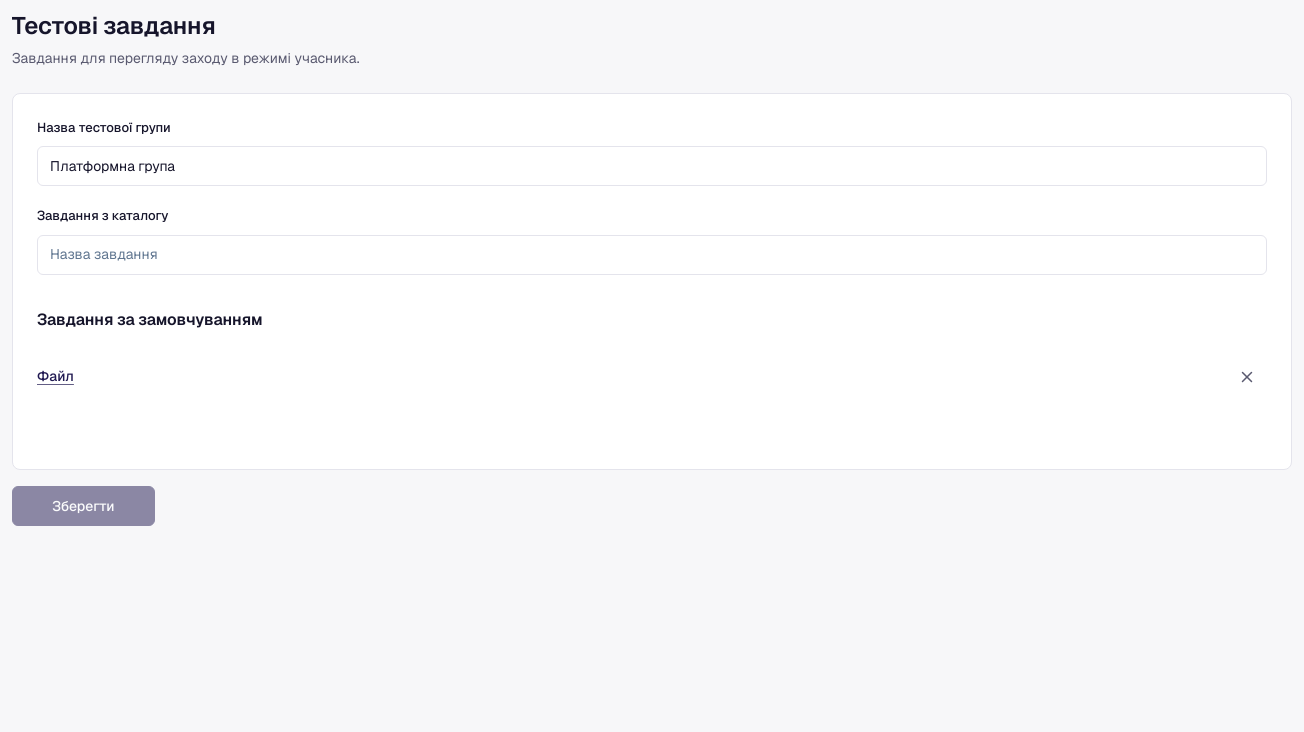
Test case: keeps newer edits when an earlier save finishes
The width and height of the screenshot is (1304, 732).
Replace the text in the field labelled "Назва тестової групи" with "Перша назва": [652, 166] box 37,146 -> 1267,186
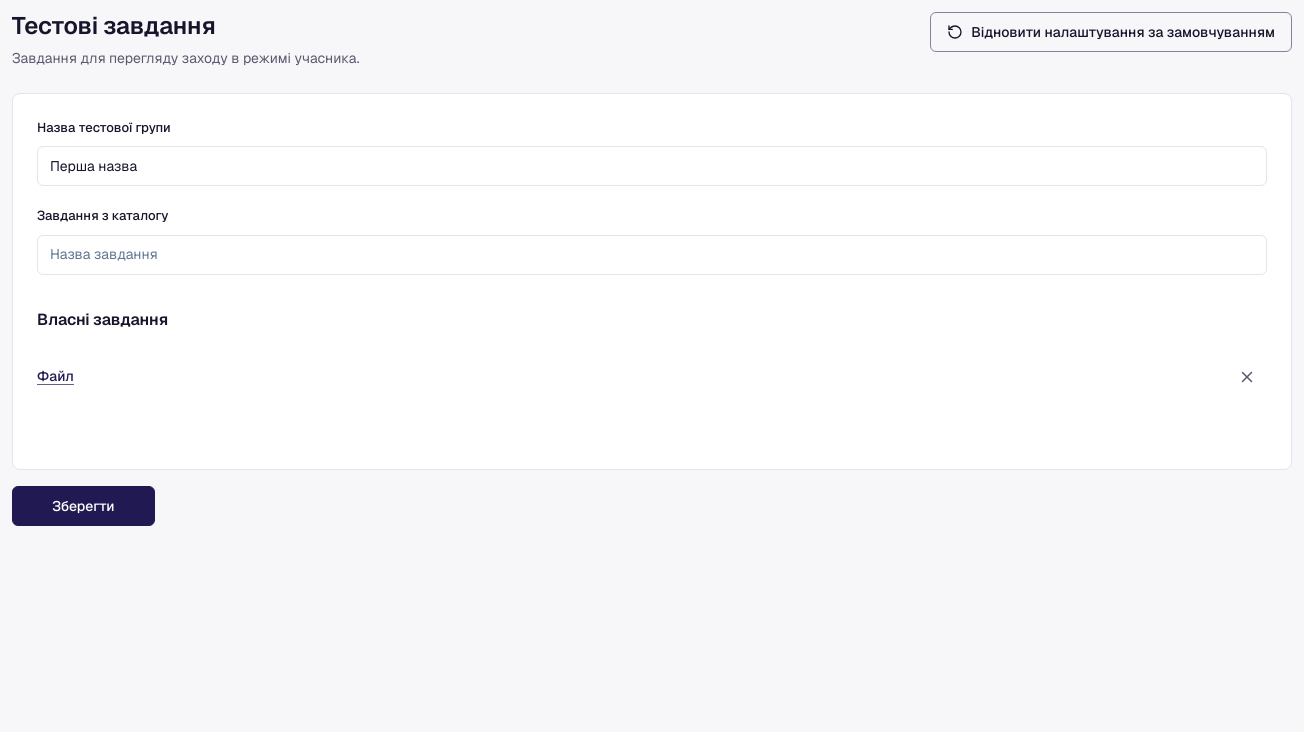
Click the button "Зберегти": [83, 506] box 12,486 -> 155,526
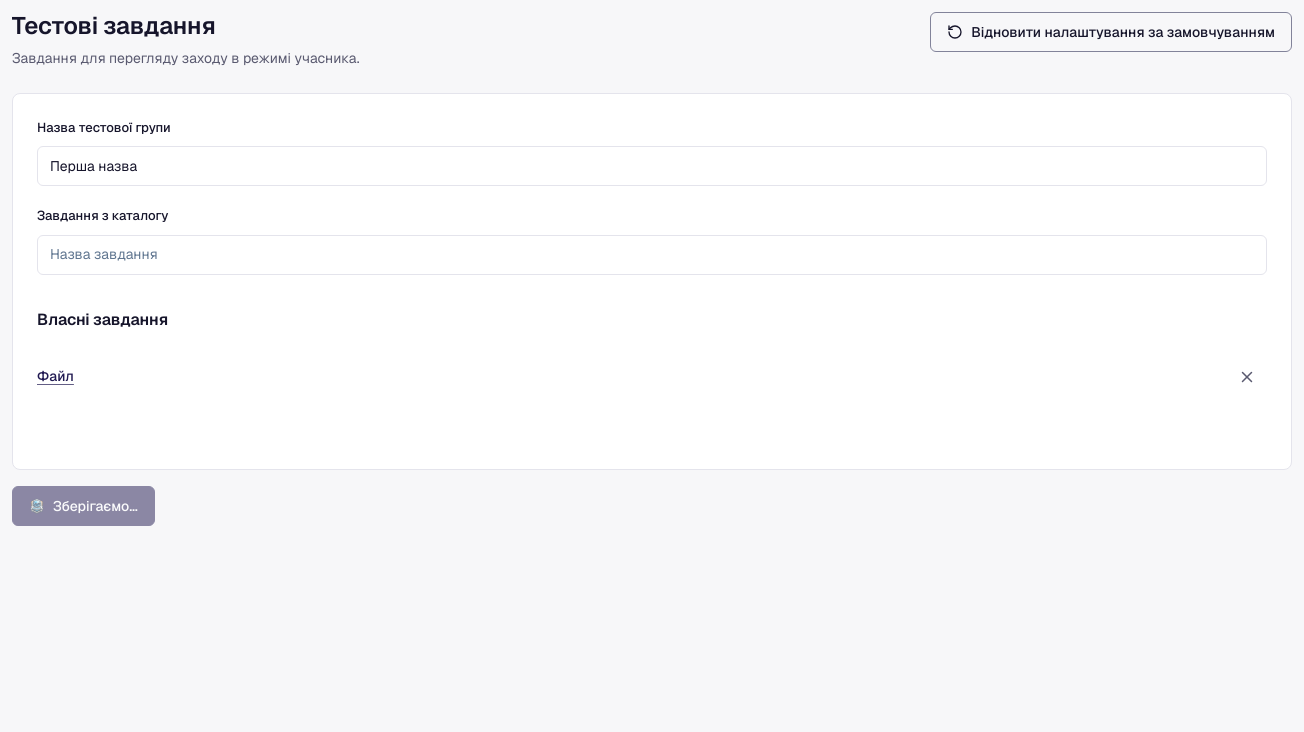
Replace the text in the field labelled "Назва тестової групи" with "Нова назва": [652, 166] box 37,146 -> 1267,186
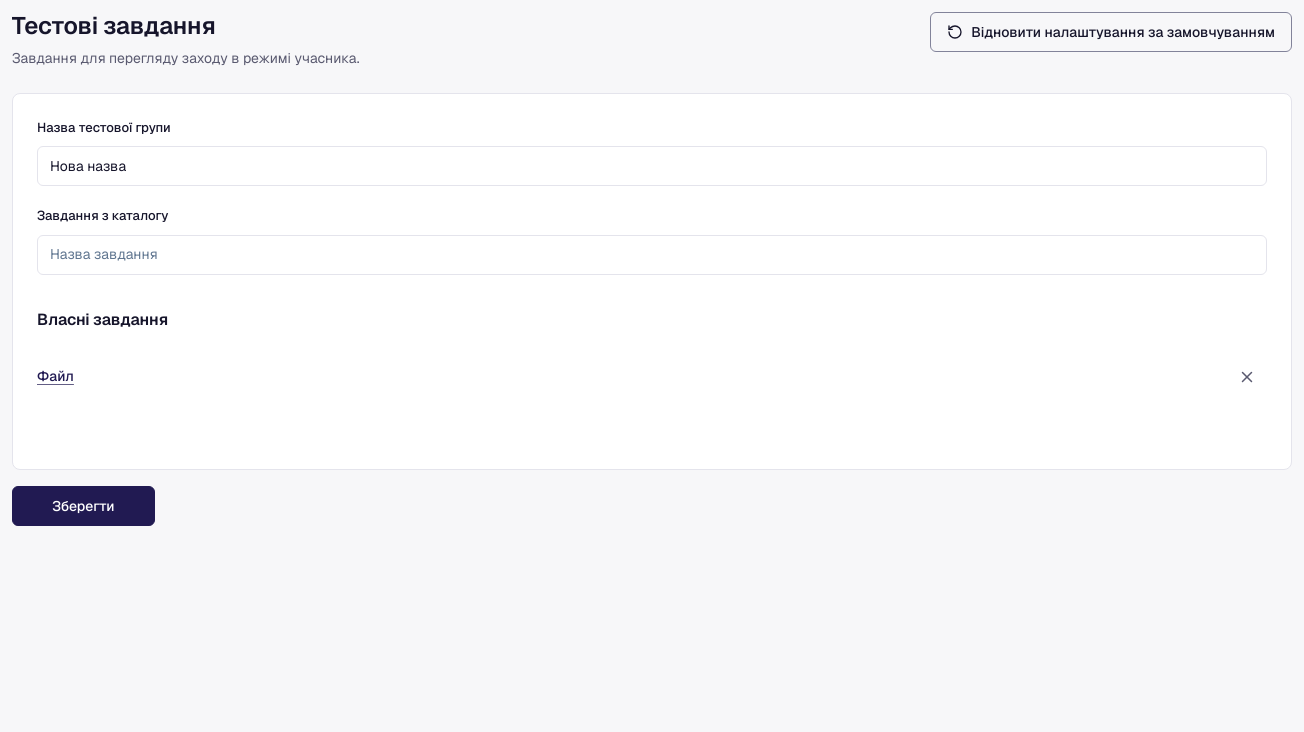
Expected: the button "Зберегти" is enabled, 12,486 -> 155,526
